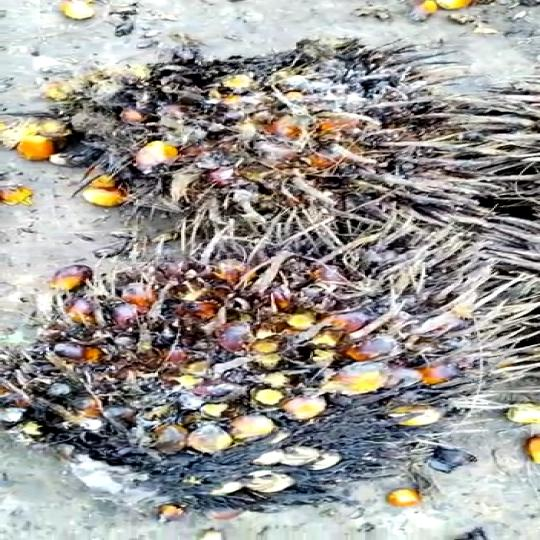terlalu masak: (43, 48, 540, 232)
